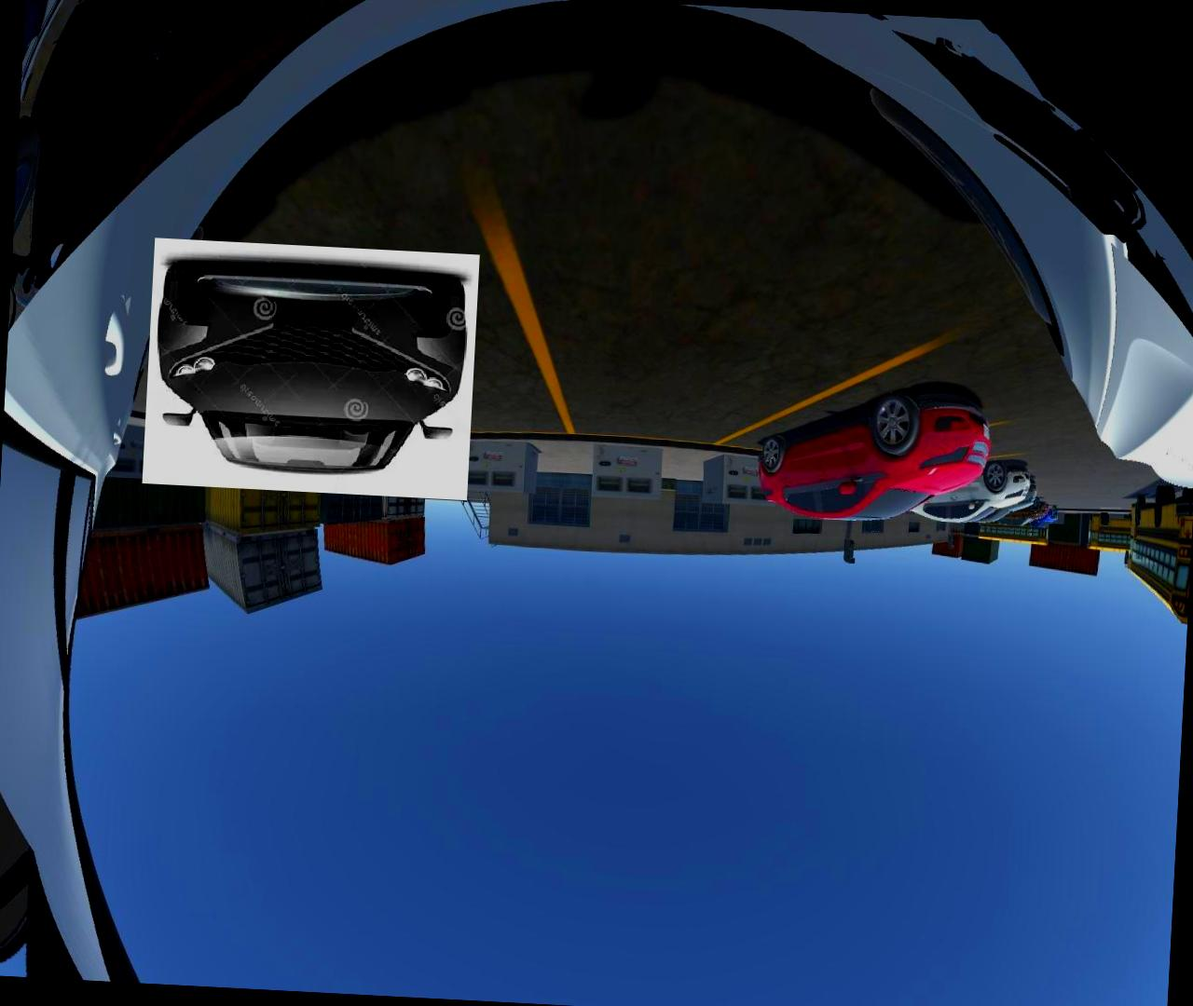Car: (143, 232, 476, 501)
